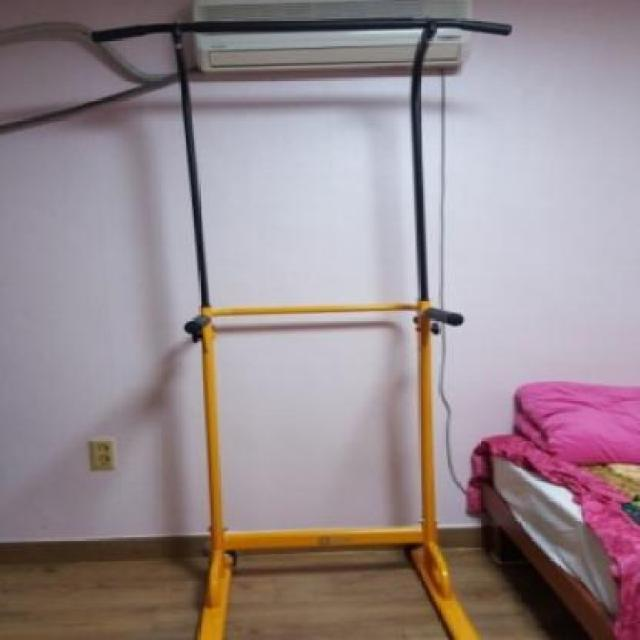chinning dipping: (89, 15, 482, 640)
